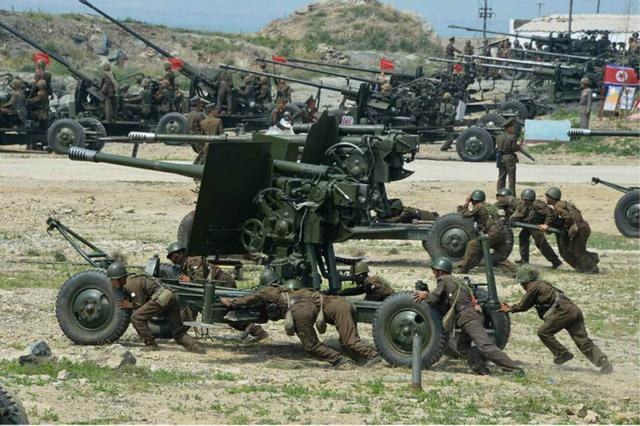MIL_SPG: (69, 112, 475, 293)
